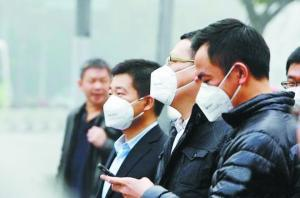NONE: (85, 76, 109, 102)
OK: (197, 69, 248, 123), (152, 51, 199, 108), (103, 81, 151, 129), (283, 71, 300, 116)
